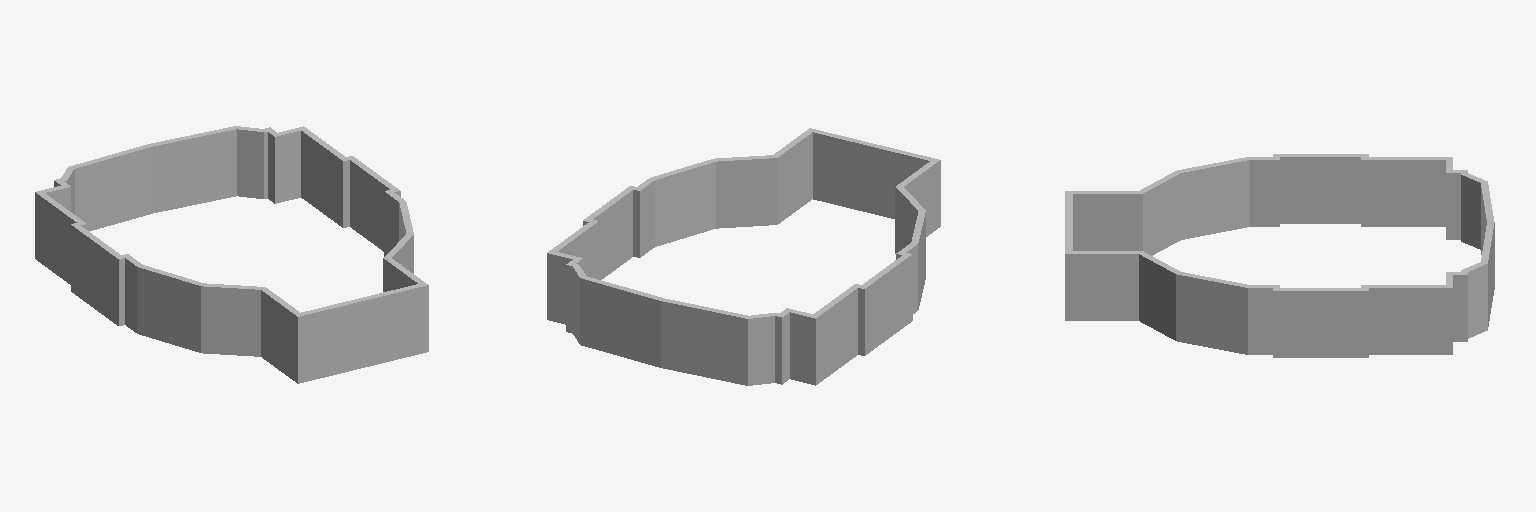
File: scratch_v4.obj
3 views of the same model, side by side, from view 1: azimuth 30°, elevation 25°; view 2: azimuth 150°, elevation 25°; view 3: azimuth 270°, elevation 25° (orthographic).
Parts seen in each view (by area): view 1: Body1; view 2: Body1; view 3: Body1.
Part boxes in pixels (bbox=[...]): Body1: bbox=[35, 126, 428, 383]; Body1: bbox=[547, 128, 940, 385]; Body1: bbox=[1065, 154, 1494, 357].
Size of the model in its own units: 440 by 100 by 580.